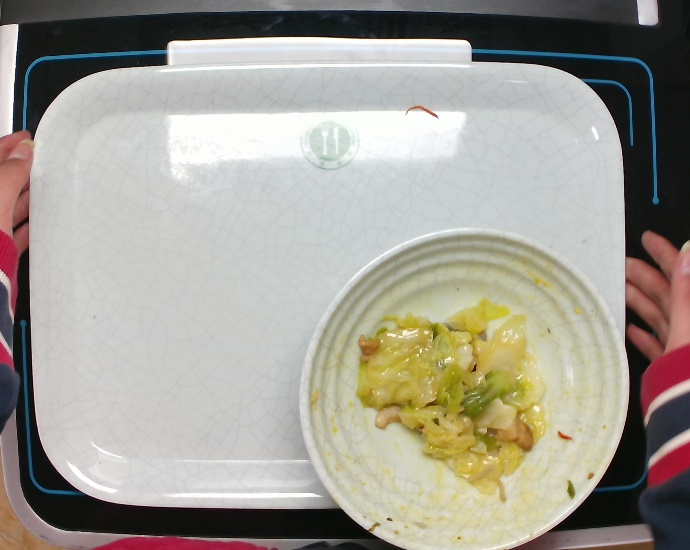JYsf-Da_Tang_Wan: (296, 221, 632, 550)
